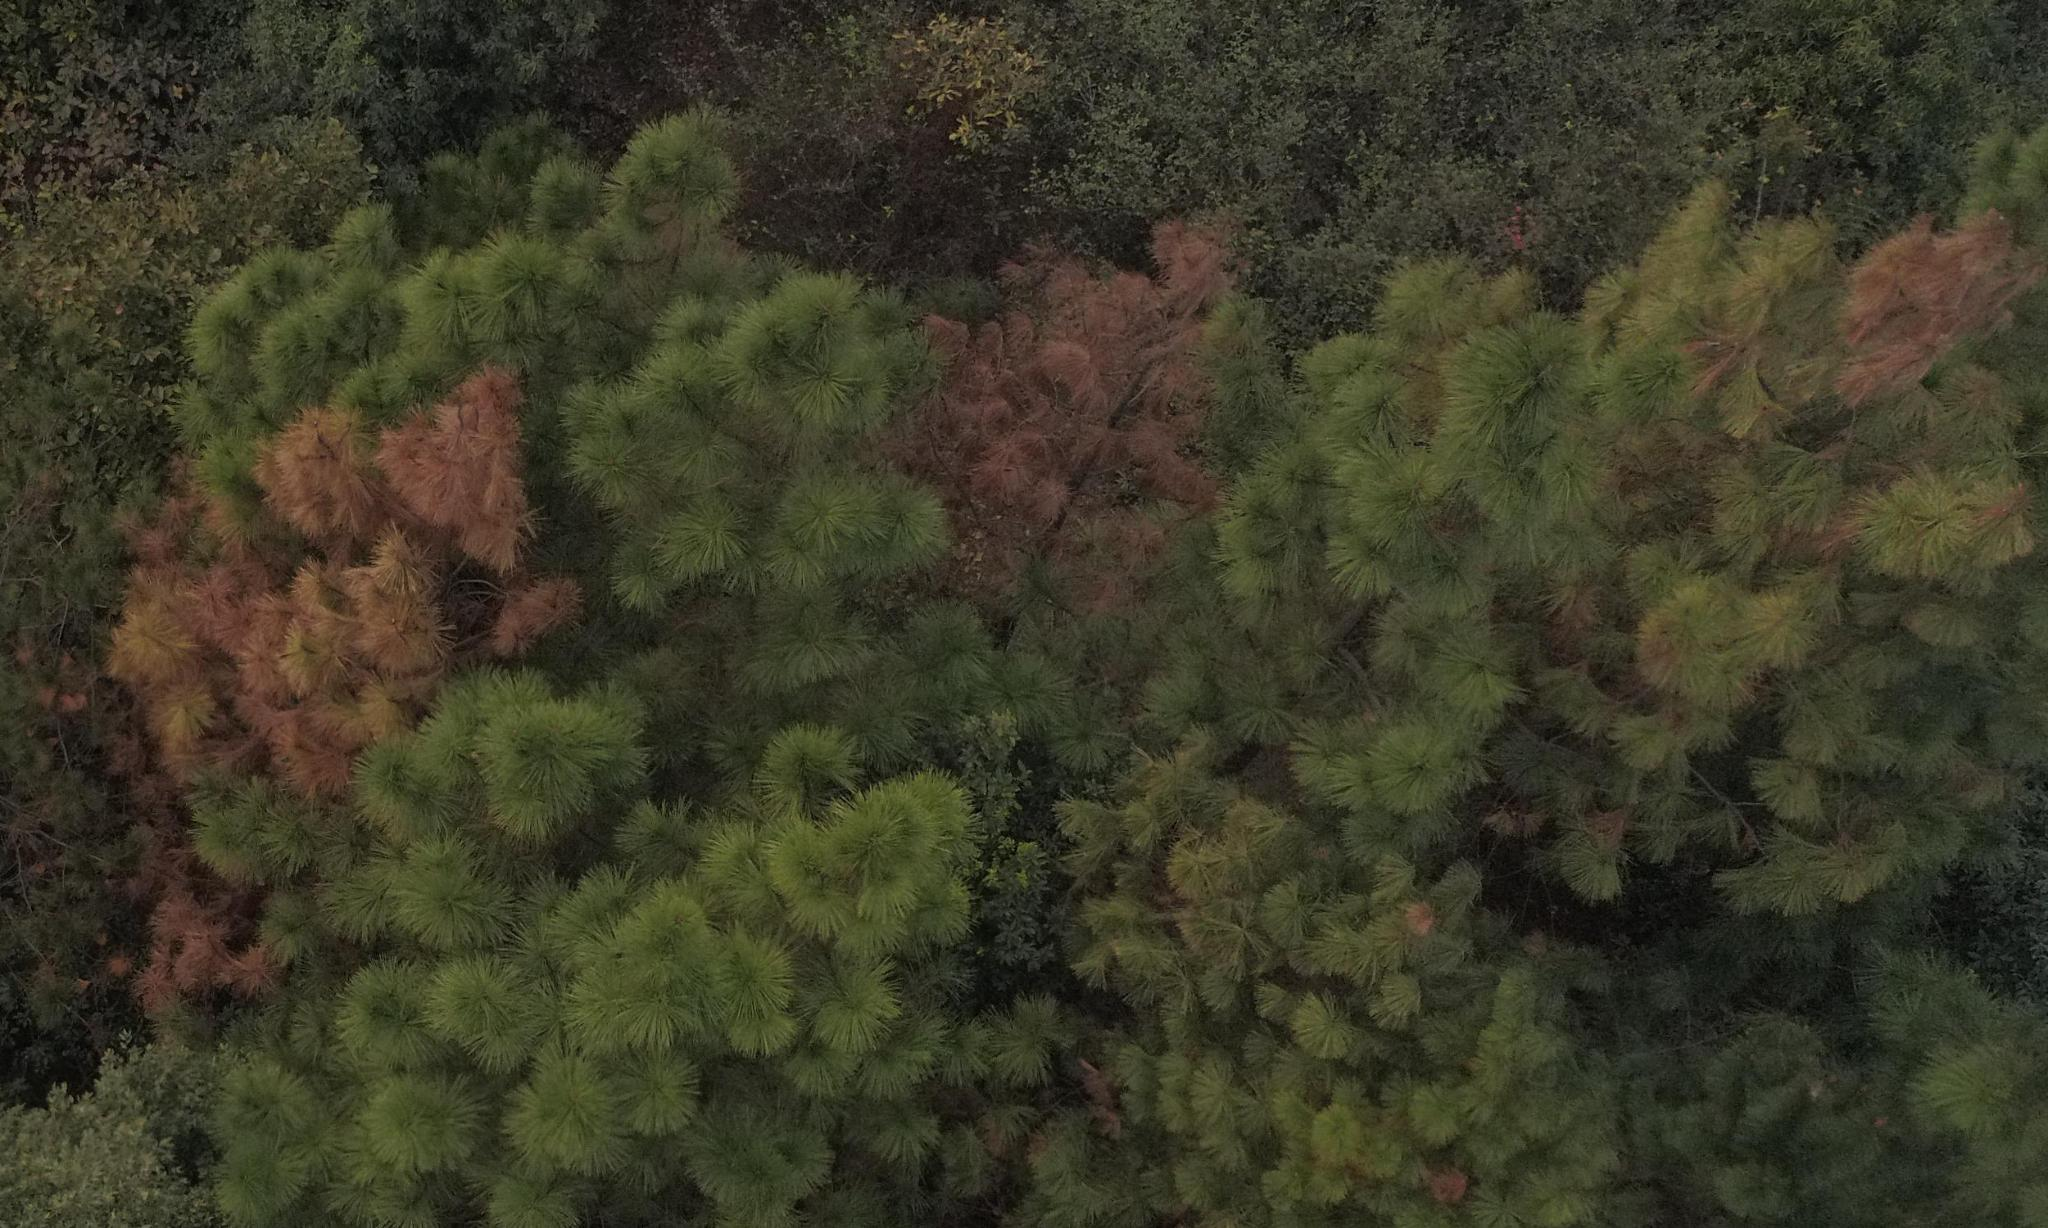heavy: (110, 387, 560, 794), (890, 216, 1216, 617)
light: (1412, 211, 2019, 928)
